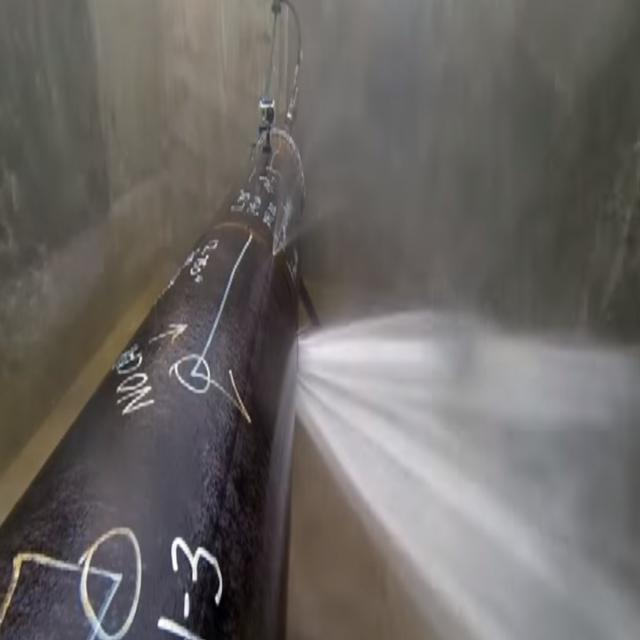leak: (293, 303, 640, 640)
